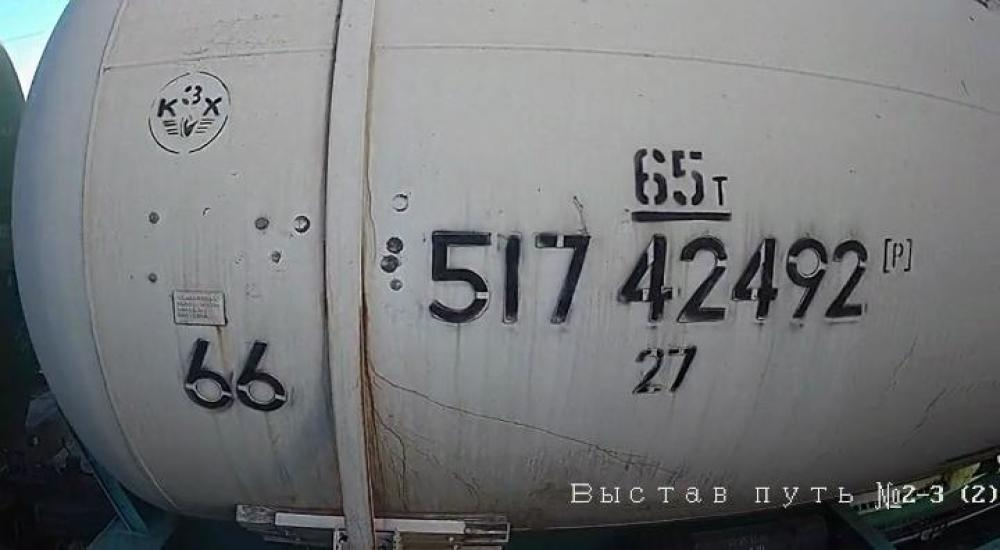Wagon-number: (420, 224, 872, 333)
